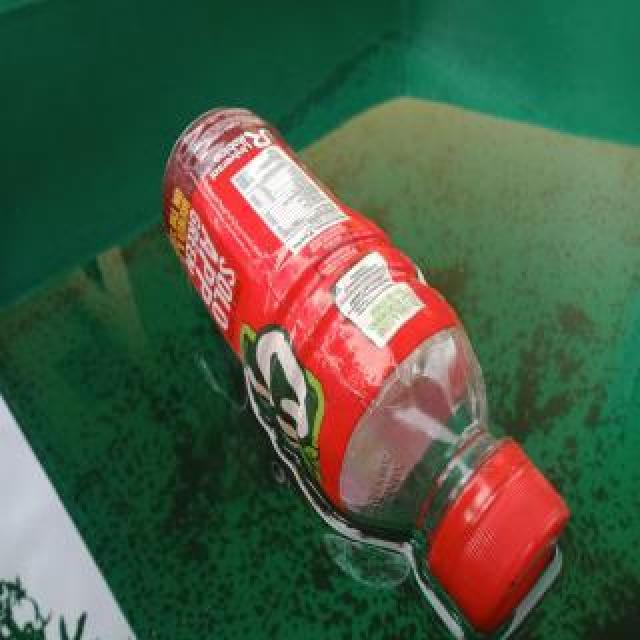bottle: (160, 101, 570, 637)
